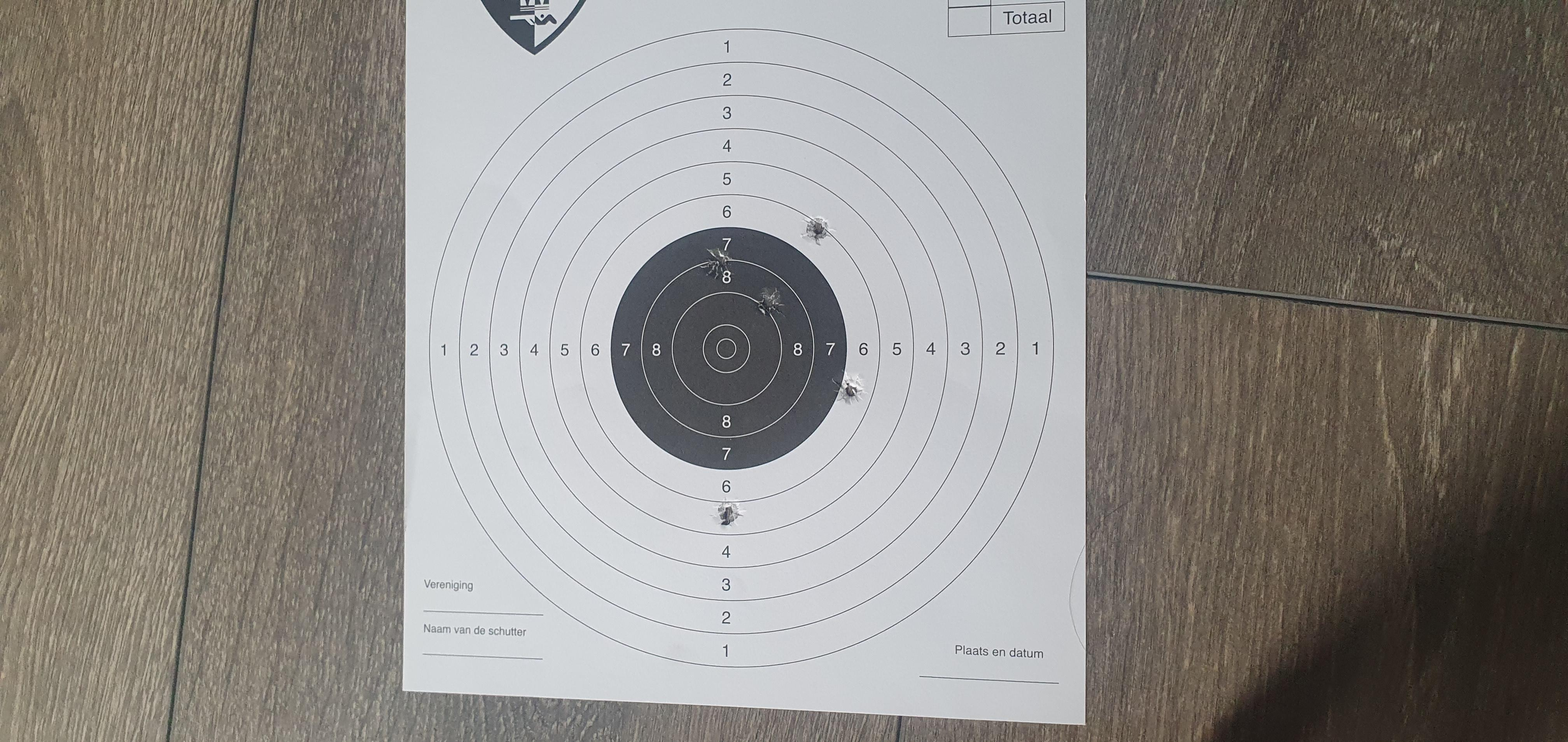hole: (702, 394, 788, 411), (1048, 378, 1117, 395), (972, 332, 1045, 347), (449, 337, 515, 352), (898, 357, 961, 371)
